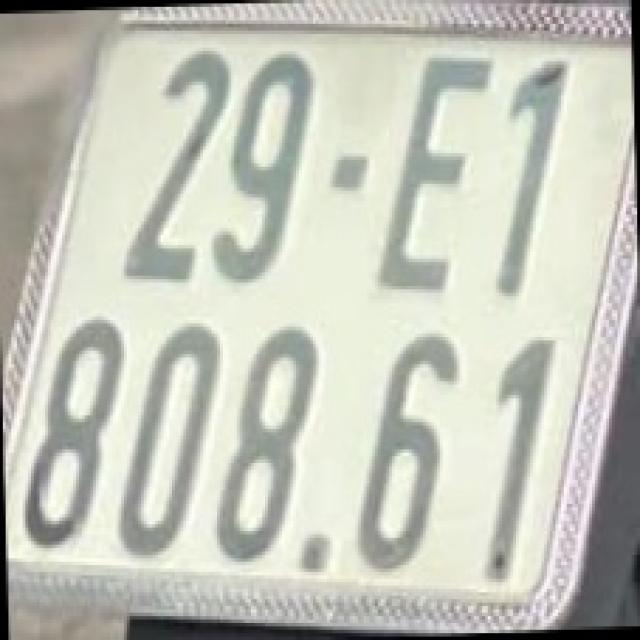0: (116, 317, 220, 558)
1: (477, 327, 561, 585), (493, 48, 572, 296)
2: (116, 41, 226, 286)
6: (352, 327, 462, 575)
8: (215, 317, 322, 565), (17, 310, 121, 551)
9: (214, 48, 316, 286)
E: (378, 44, 490, 296)
